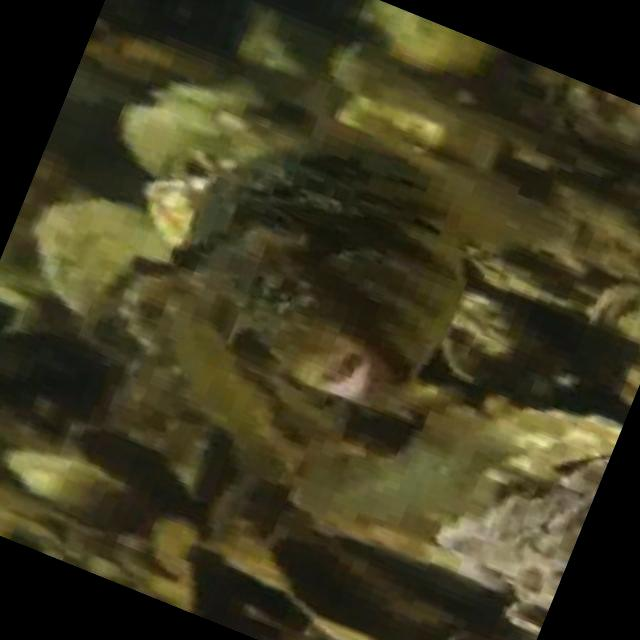Oyster-Closed: (206, 477, 445, 590), (439, 461, 599, 628), (337, 38, 486, 160), (36, 192, 165, 309), (4, 452, 153, 526), (372, 0, 497, 75), (570, 282, 640, 410), (123, 102, 224, 177), (551, 85, 640, 146), (143, 181, 199, 247), (153, 76, 240, 115)
Oyster-Open: (237, 364, 318, 464), (178, 145, 232, 191)
